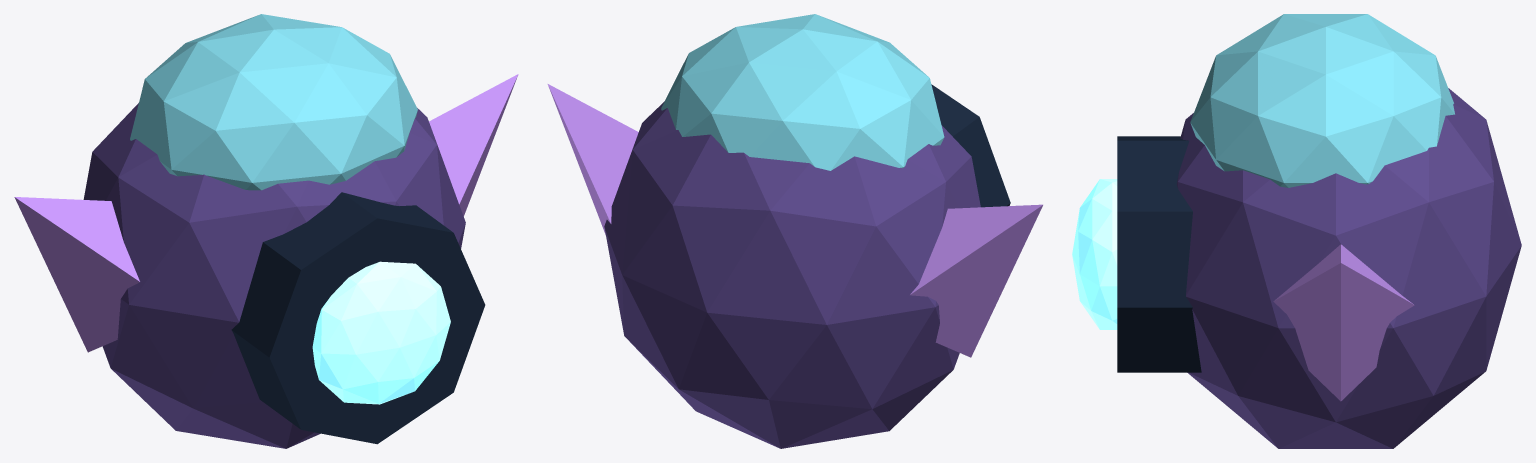
The model's file is mob-ranged.glb.
3 views of the same model, side by side, from view 1: azimuth 30°, elevation 25°; view 2: azimuth 150°, elevation 25°; view 3: azimuth 270°, elevation 25° (orthographic). The views are drawn at different scales.
Visible parts, largest first — view 1: Crystal Shell, Cap, Focus Housing, Focus, Fin, Fin.001; view 2: Crystal Shell, Cap, Fin, Fin.001, Focus Housing; view 3: Crystal Shell, Cap, Focus Housing, Fin.001, Focus.
Part boxes in pixels (bbox=[...]): Crystal Shell: bbox=[83, 103, 465, 448]; Cap: bbox=[130, 14, 417, 190]; Focus Housing: bbox=[231, 192, 485, 444]; Focus: bbox=[312, 261, 450, 404]; Fin: bbox=[14, 197, 139, 352]; Fin.001: bbox=[429, 74, 518, 216]; Crystal Shell: bbox=[604, 101, 980, 448]; Cap: bbox=[661, 14, 944, 170]; Fin: bbox=[910, 204, 1042, 357]; Fin.001: bbox=[547, 84, 638, 235]; Focus Housing: bbox=[931, 84, 1010, 207]; Crystal Shell: bbox=[1176, 88, 1521, 448]; Cap: bbox=[1190, 14, 1454, 187]; Focus Housing: bbox=[1117, 136, 1201, 372]; Fin.001: bbox=[1273, 244, 1414, 401]; Focus: bbox=[1072, 179, 1117, 329].
Size of the model in its own units: 1.17 by 0.91 by 0.895.
